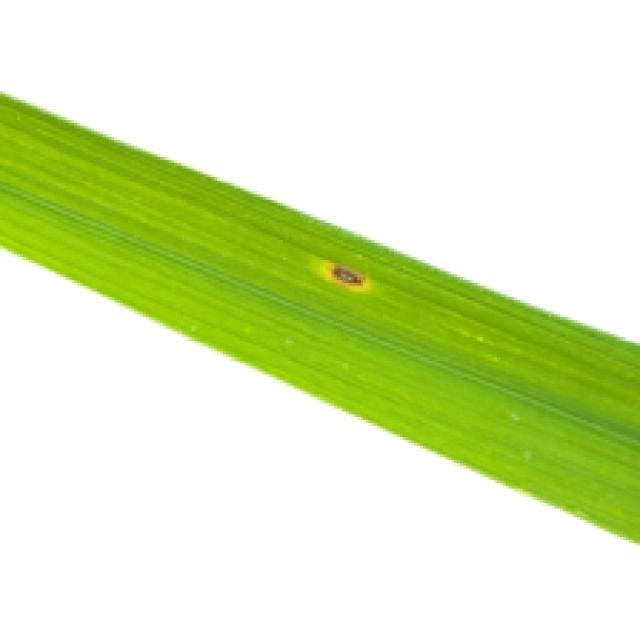Rice___Rice_Blast: (1, 92, 637, 548)
